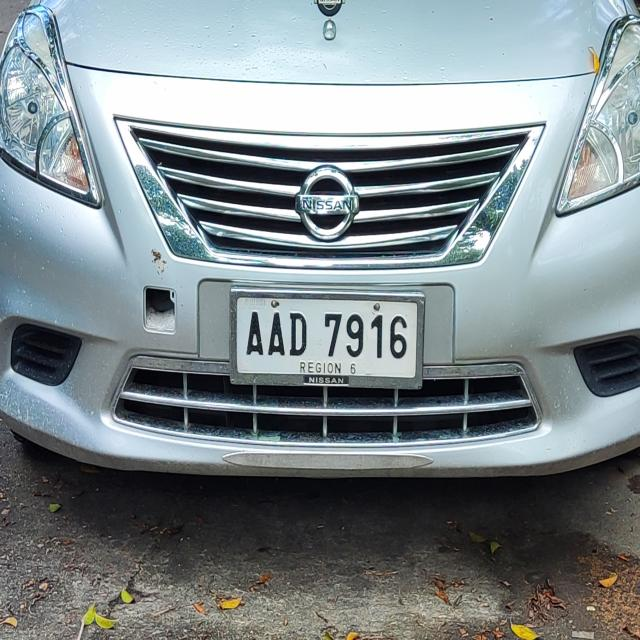plate: (228, 285, 426, 390)
